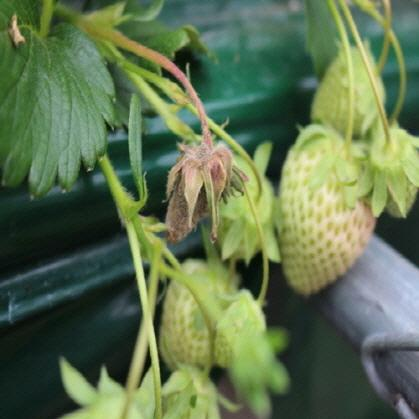Gray Mold: (162, 103, 250, 244)
